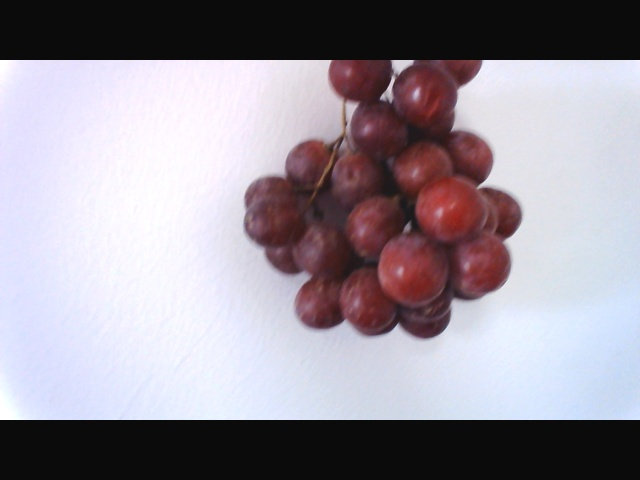grape: (241, 58, 523, 343)
